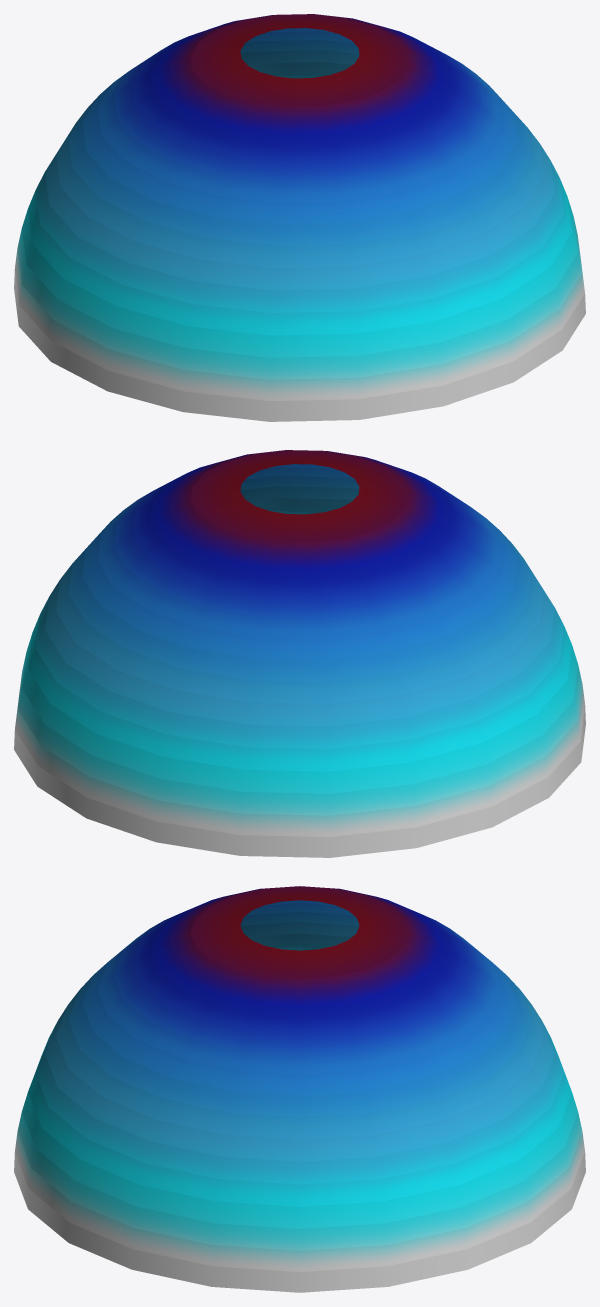
Rendered from 16_rings_flow_meter.fbx.
3 views of the same model, one above another, from view 1: azimuth 30°, elevation 25°; view 2: azimuth 150°, elevation 25°; view 3: azimuth 270°, elevation 25° (orthographic).
Visible parts, largest first — view 1: polySurface13, polySurface15, polySurface9, polySurface11, polySurface7, polySurface17, polySurface5, polySurface3, polySurface1, polySurface19, polySurface31, polySurface21 (+4 smaller); view 2: polySurface13, polySurface15, polySurface9, polySurface11, polySurface7, polySurface17, polySurface5, polySurface3, polySurface1, polySurface19, polySurface31, polySurface21 (+4 smaller); view 3: polySurface13, polySurface15, polySurface11, polySurface9, polySurface7, polySurface17, polySurface5, polySurface3, polySurface1, polySurface19, polySurface31, polySurface21 (+4 smaller).
Boxes of the visible parts, left/top/right/bottom form: polySurface13: left=45, top=62, right=554, bottom=290; polySurface15: left=56, top=50, right=543, bottom=267; polySurface9: left=28, top=179, right=571, bottom=335; polySurface11: left=36, top=75, right=563, bottom=312; polySurface7: left=22, top=198, right=577, bottom=357; polySurface17: left=68, top=40, right=531, bottom=245; polySurface5: left=17, top=217, right=582, bottom=379; polySurface3: left=15, top=248, right=584, bottom=400; polySurface1: left=14, top=269, right=585, bottom=421; polySurface19: left=82, top=31, right=517, bottom=223; polySurface31: left=190, top=14, right=409, bottom=106; polySurface21: left=98, top=28, right=502, bottom=202; polySurface13: left=45, top=498, right=554, bottom=726; polySurface15: left=56, top=486, right=543, bottom=703; polySurface9: left=28, top=615, right=571, bottom=771; polySurface11: left=36, top=511, right=563, bottom=748; polySurface7: left=22, top=634, right=577, bottom=793; polySurface17: left=68, top=476, right=531, bottom=681; polySurface5: left=17, top=653, right=582, bottom=815; polySurface3: left=15, top=684, right=584, bottom=836; polySurface1: left=14, top=705, right=585, bottom=857; polySurface19: left=82, top=467, right=517, bottom=659; polySurface31: left=190, top=450, right=409, bottom=542; polySurface21: left=97, top=464, right=501, bottom=638; polySurface13: left=45, top=933, right=554, bottom=1161; polySurface15: left=56, top=922, right=543, bottom=1139; polySurface11: left=36, top=946, right=563, bottom=1184; polySurface9: left=28, top=1043, right=571, bottom=1206; polySurface7: left=22, top=1092, right=577, bottom=1228; polySurface17: left=68, top=911, right=531, bottom=1117; polySurface5: left=17, top=1112, right=582, bottom=1250; polySurface3: left=15, top=1132, right=584, bottom=1271; polySurface1: left=14, top=1152, right=585, bottom=1292; polySurface19: left=82, top=903, right=517, bottom=1095; polySurface31: left=190, top=886, right=409, bottom=978; polySurface21: left=98, top=900, right=501, bottom=1073.
Bounding box in the file's own units: 2 × 0.9511 × 2.
